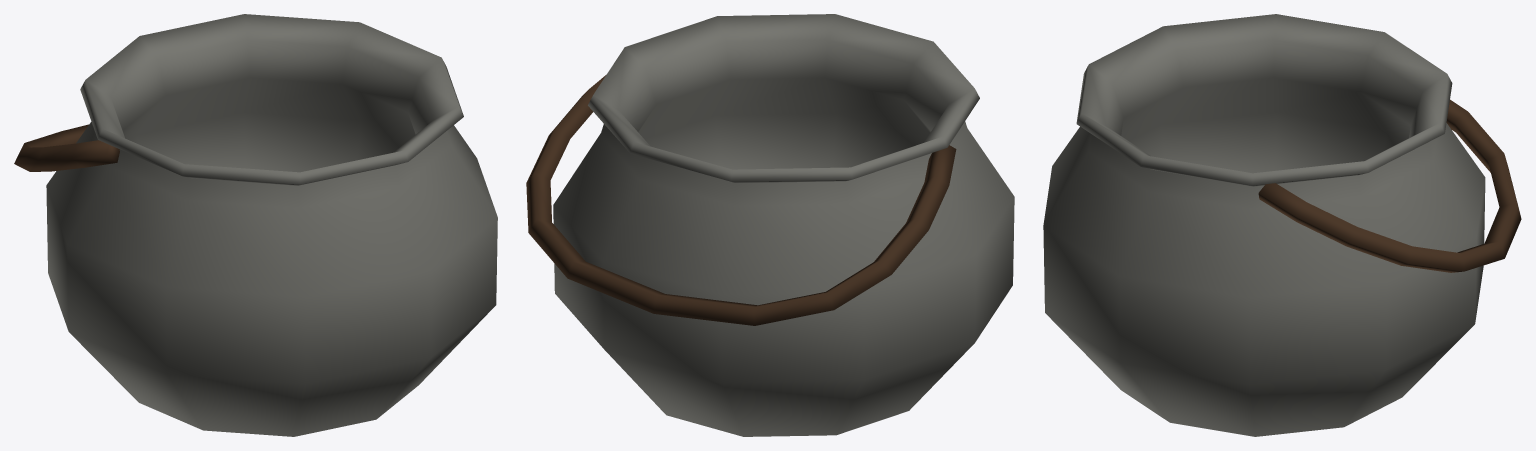
Rendered from Cauldron_Small.glb.
3 renders of one model, left to right at view 1: azimuth 30°, elevation 25°; view 2: azimuth 150°, elevation 25°; view 3: azimuth 270°, elevation 25°, orthographic.
Parts seen in each view (by area): view 1: Cauldron_Small.001; view 2: Cauldron_Small.001; view 3: Cauldron_Small.001.
Boxes of the visible parts, <box> form: Cauldron_Small.001: <box>14,14,497,436</box>; Cauldron_Small.001: <box>526,14,1014,436</box>; Cauldron_Small.001: <box>1043,14,1521,436</box>.
Size of the model in its own units: 0.2849 by 0.1937 by 0.299.
Materials: 2 (2 with a texture image).
